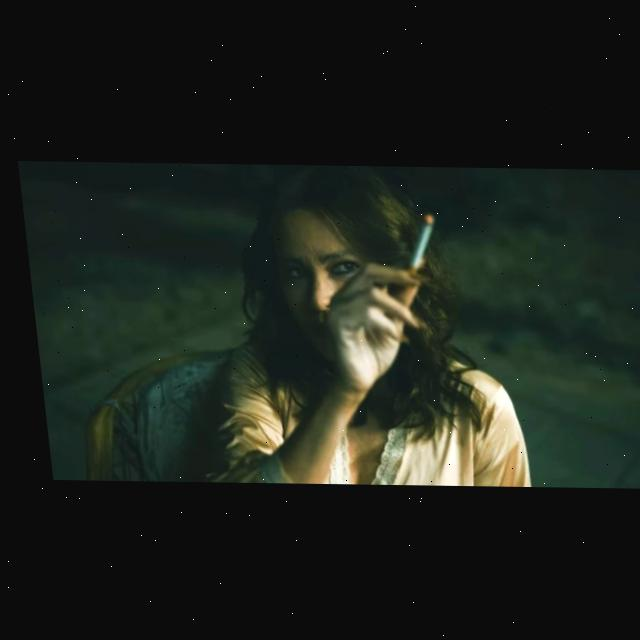cigarette: (396, 211, 434, 274)
